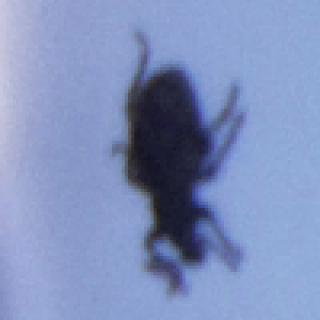bvw: (110, 29, 245, 299)
